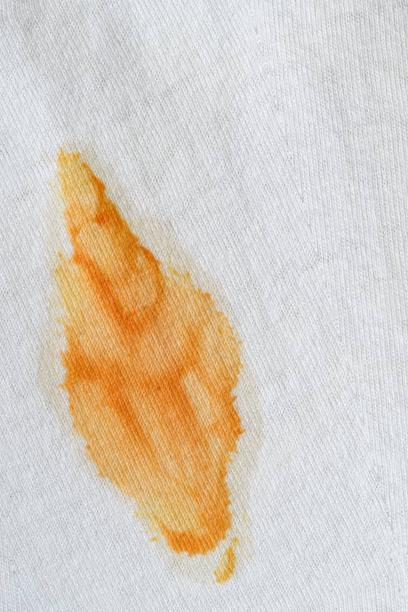stain: (45, 136, 254, 591)
